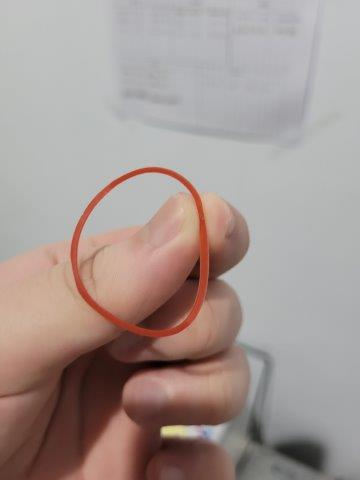karet: (70, 166, 211, 334)
